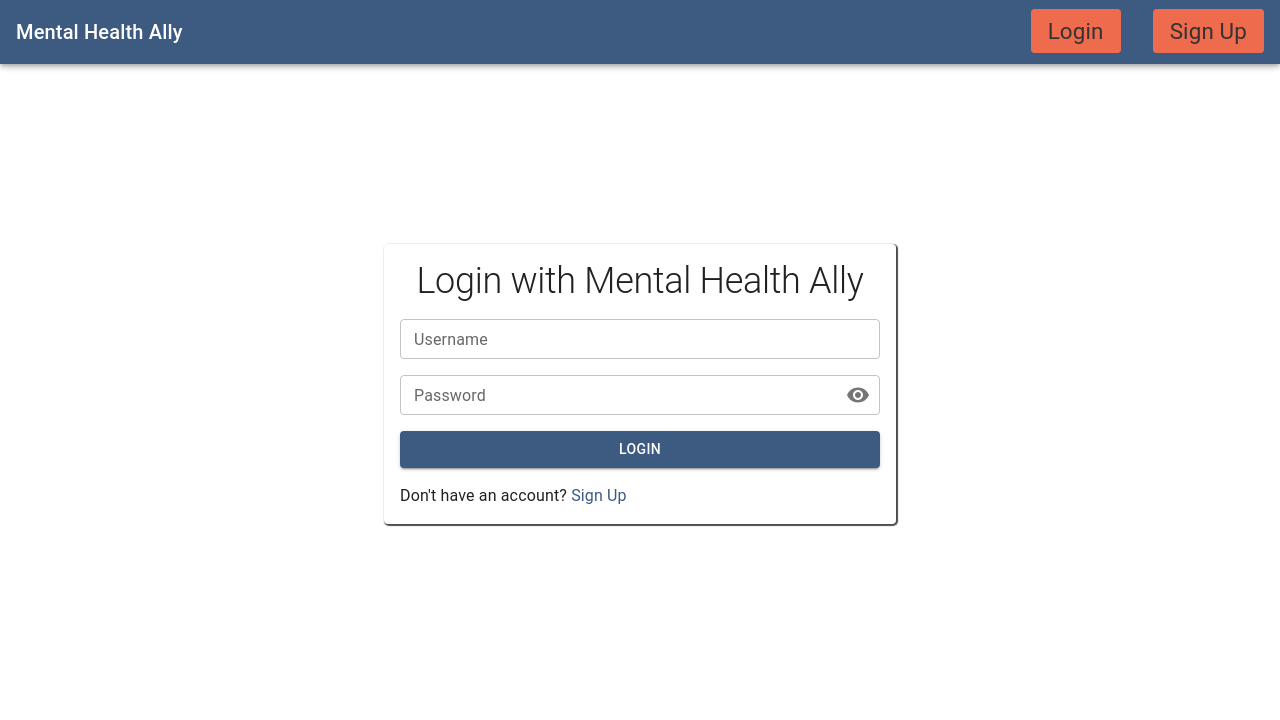
Test case: Login Page › password field text is visible when clicking on toggle password visibility and it is of type password when clicking on password toggle visibility
In the password field labelled "Password": (615, 395) [400, 375, 830, 415], type "Jblanch94!"
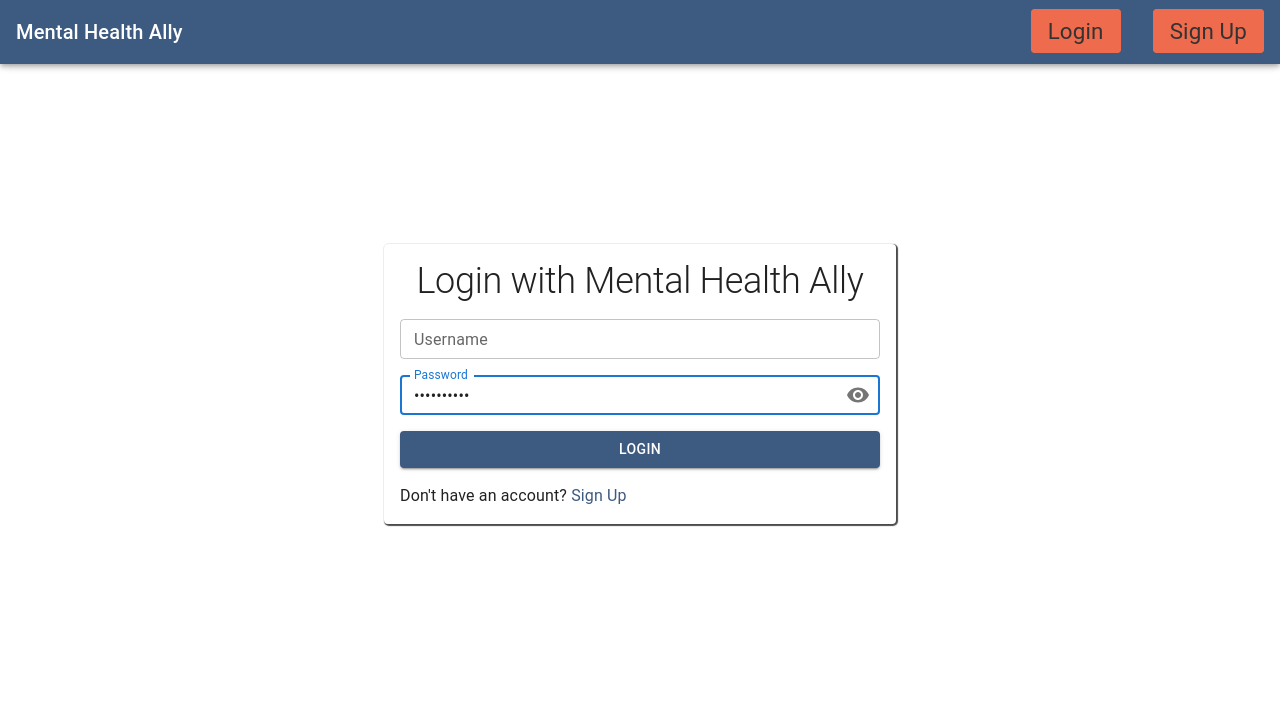
Click the button named "password": (858, 395) [838, 375, 878, 415]
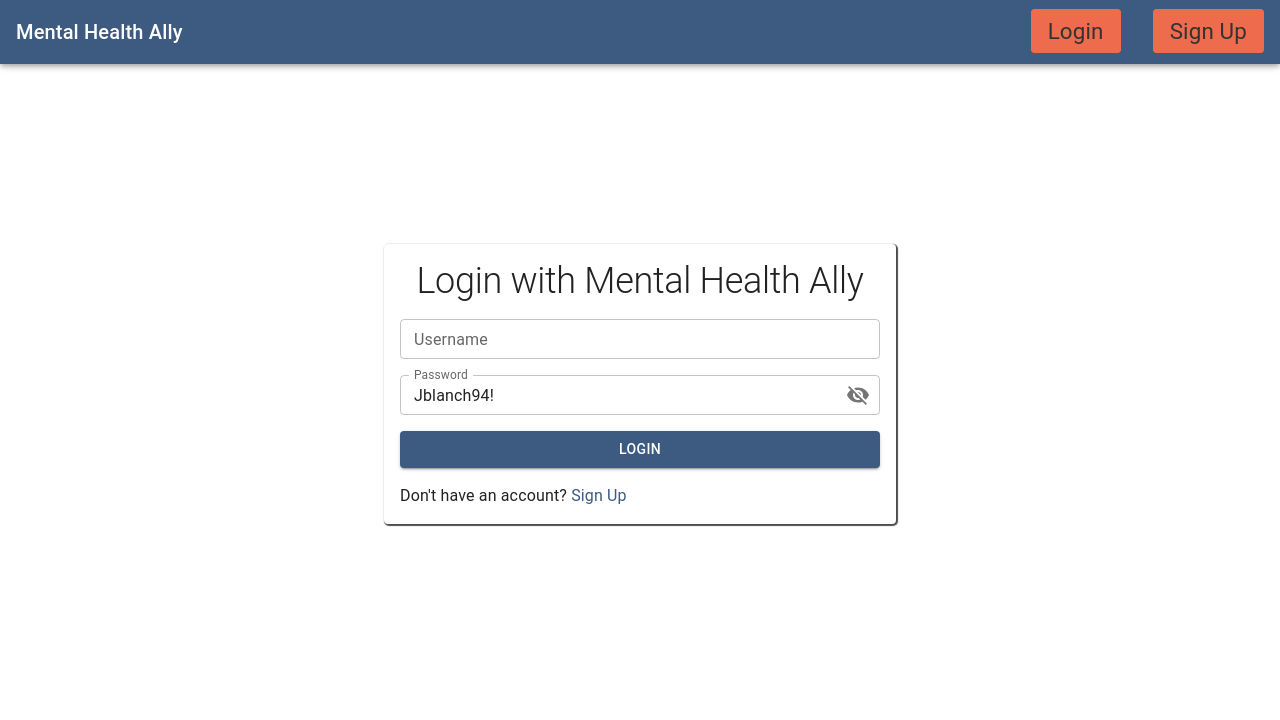
Now the field labelled "Password" shows its text, box [400, 375, 830, 415]
Click the button named "password": (858, 395) [838, 375, 878, 415]
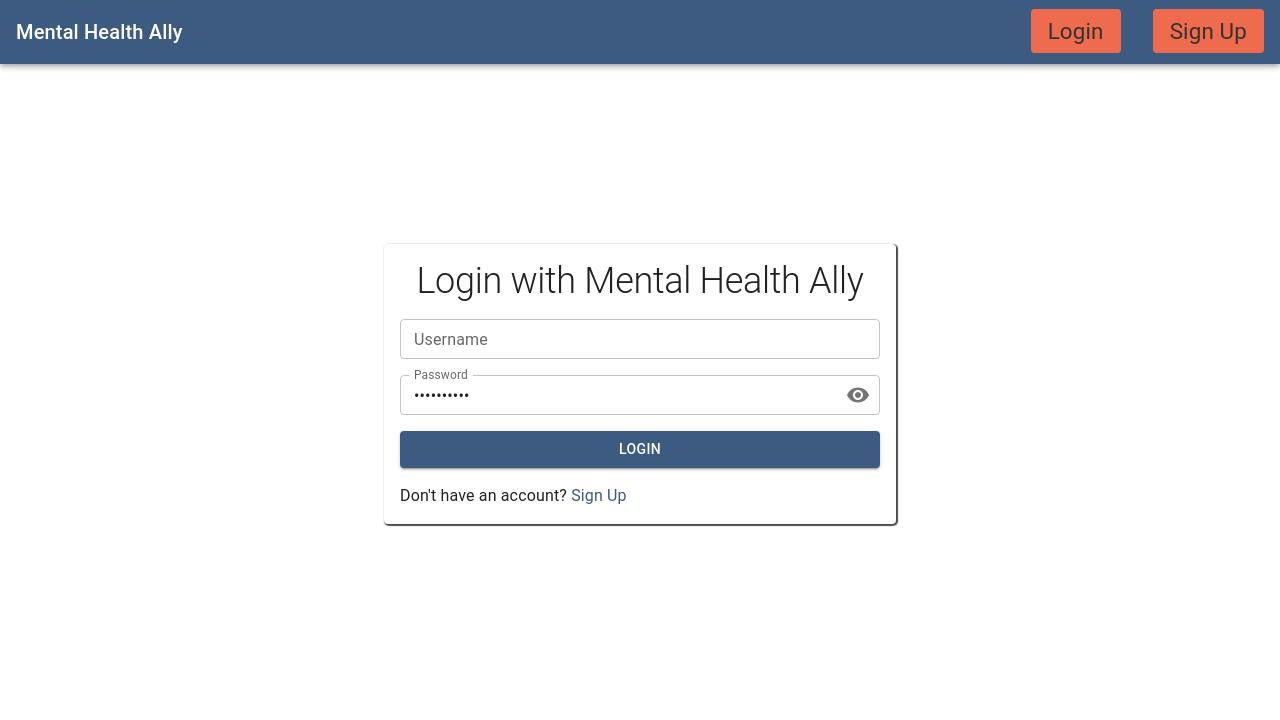
Now the password field labelled "Password" hides its text, box [400, 375, 830, 415]
